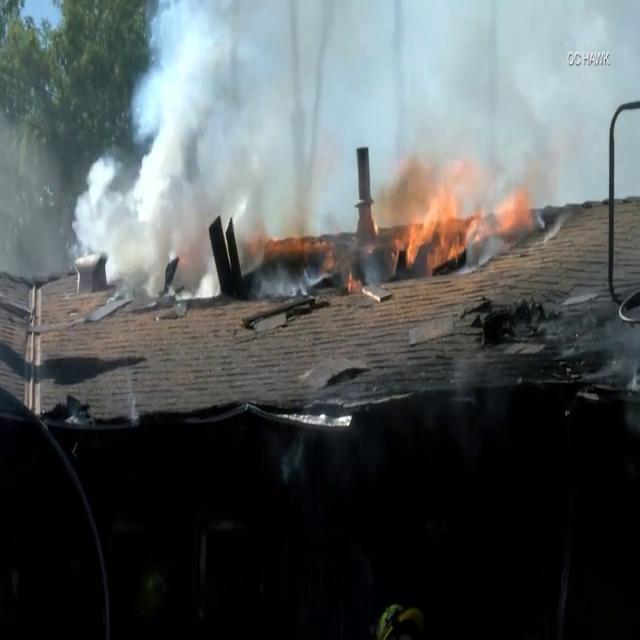Fire: (394, 162, 534, 268)
Smoke: (82, 0, 338, 286)
